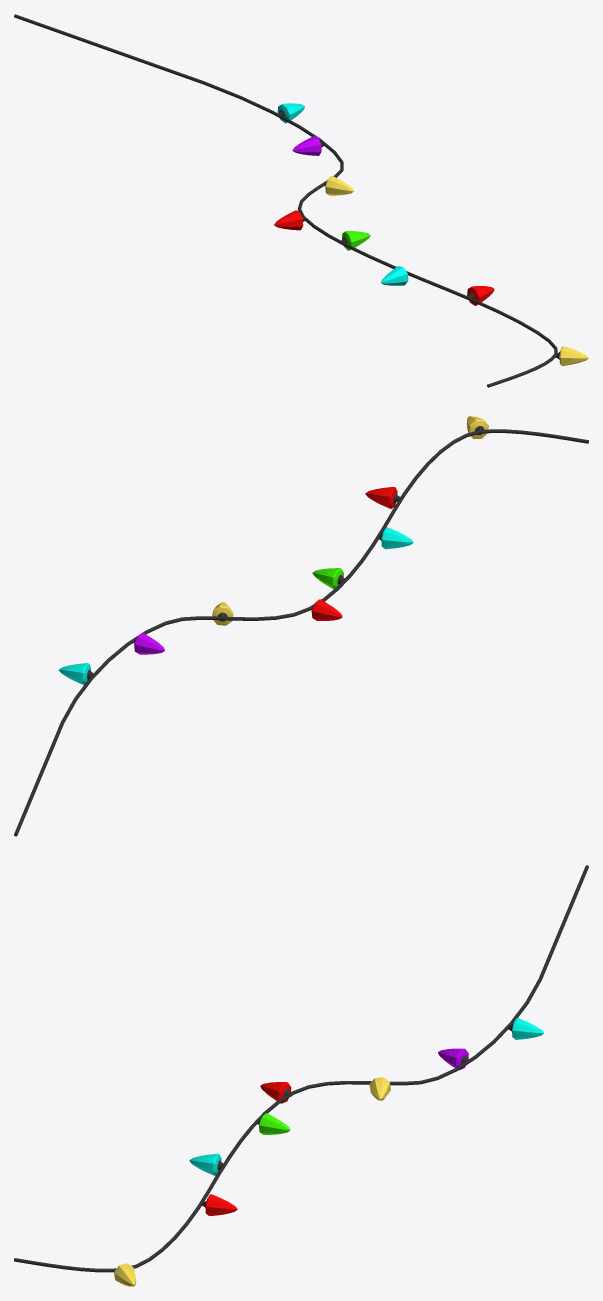
The model's file is 2LU0ahKH437.glb.
3 renders of one model, top to bottom at view 1: azimuth 30°, elevation 25°; view 2: azimuth 150°, elevation 25°; view 3: azimuth 330°, elevation 25°, orthographic. The views are drawn at different scales.
Parts seen in each view (by area): view 1: Line002, Cylinder003, Cylinder002, Cylinder005; view 2: Line002, Cylinder005, Cylinder002, Cylinder003; view 3: Line002, Cylinder005, Cylinder002, Cylinder003.
Boxes of the visible parts, left/top/right/bottom form: Line002: left=14, top=14, right=560, bottom=387; Cylinder003: left=325, top=176, right=588, bottom=366; Cylinder002: left=274, top=210, right=494, bottom=305; Cylinder005: left=277, top=103, right=408, bottom=285; Line002: left=14, top=426, right=588, bottom=836; Cylinder005: left=59, top=527, right=413, bottom=684; Cylinder002: left=311, top=487, right=397, bottom=620; Cylinder003: left=212, top=416, right=488, bottom=625; Line002: left=14, top=865, right=588, bottom=1272; Cylinder005: left=189, top=1018, right=543, bottom=1175; Cylinder002: left=205, top=1082, right=291, bottom=1216; Cylinder003: left=114, top=1077, right=390, bottom=1286.
Bounding box in the file's own units: 8.78 × 1 × 50.55.
